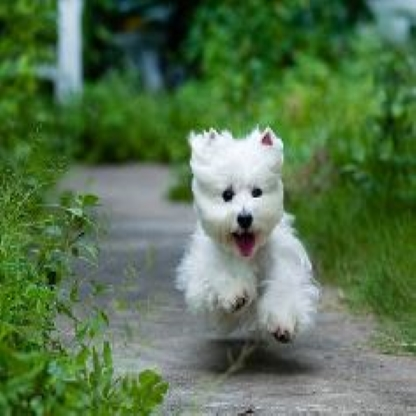maltese: (177, 119, 326, 364)
